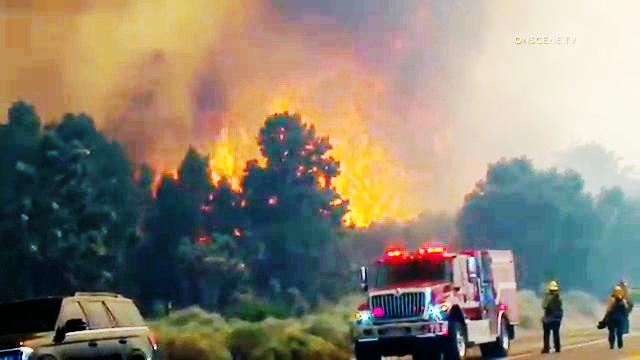fire: (211, 81, 417, 223)
